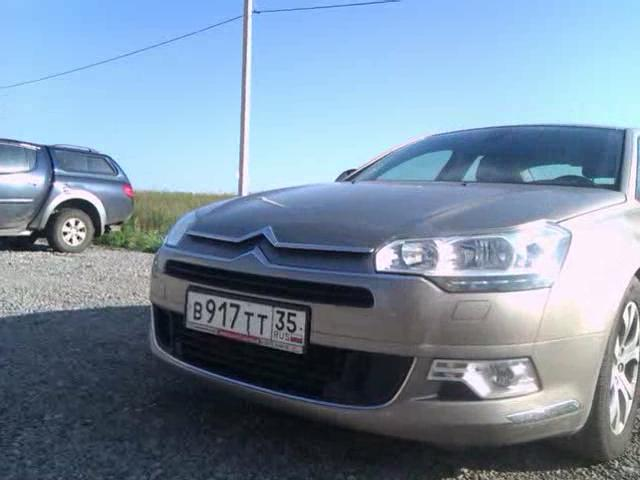car license plate: (180, 287, 309, 361)
